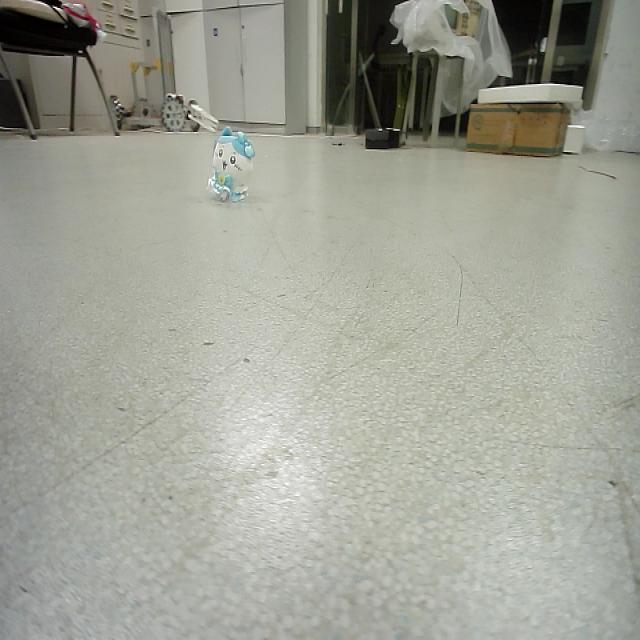xiaoba: (204, 125, 256, 202)
